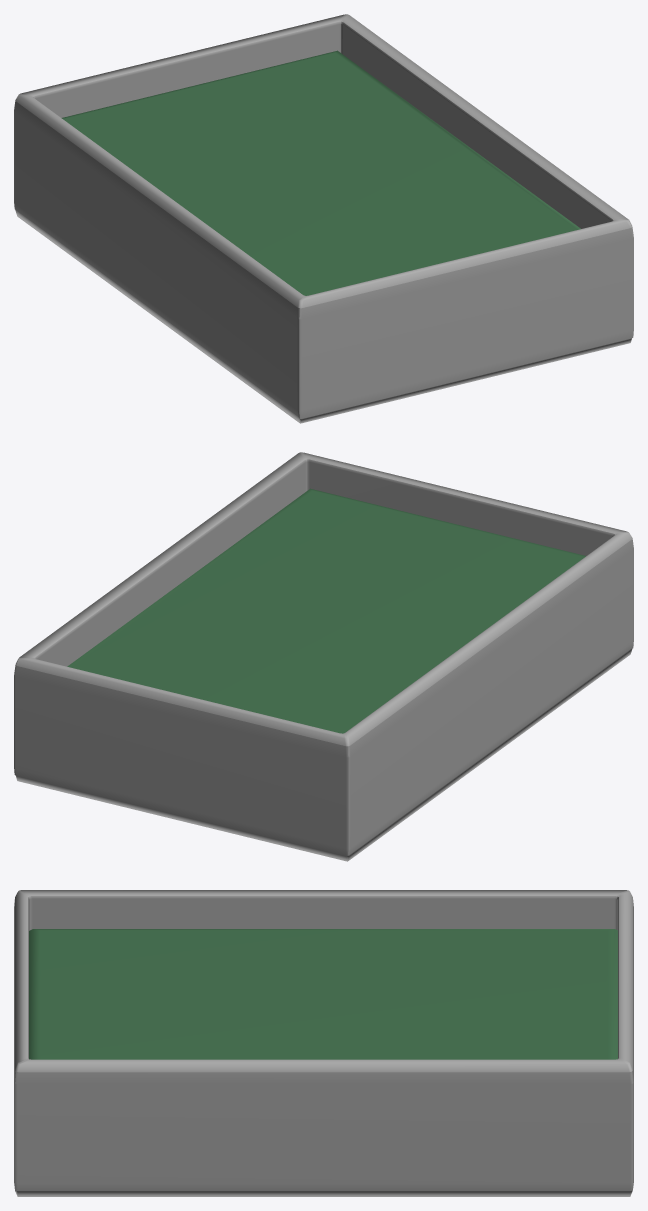
Rendered from SM_GreenBean.fbx.
3 renders of one model, top to bottom at view 1: azimuth 30°, elevation 25°; view 2: azimuth 150°, elevation 25°; view 3: azimuth 270°, elevation 25°, orthographic. The views are drawn at different scales.
Parts seen in each view (by area): view 1: pCube17; view 2: pCube17; view 3: pCube17.
Boxes of the visible parts, left/top/right/bottom form: pCube17: left=14, top=14, right=633, bottom=423; pCube17: left=14, top=452, right=633, bottom=861; pCube17: left=14, top=890, right=633, bottom=1196.
Size of the model in its own units: 233 by 80.83 by 343.
